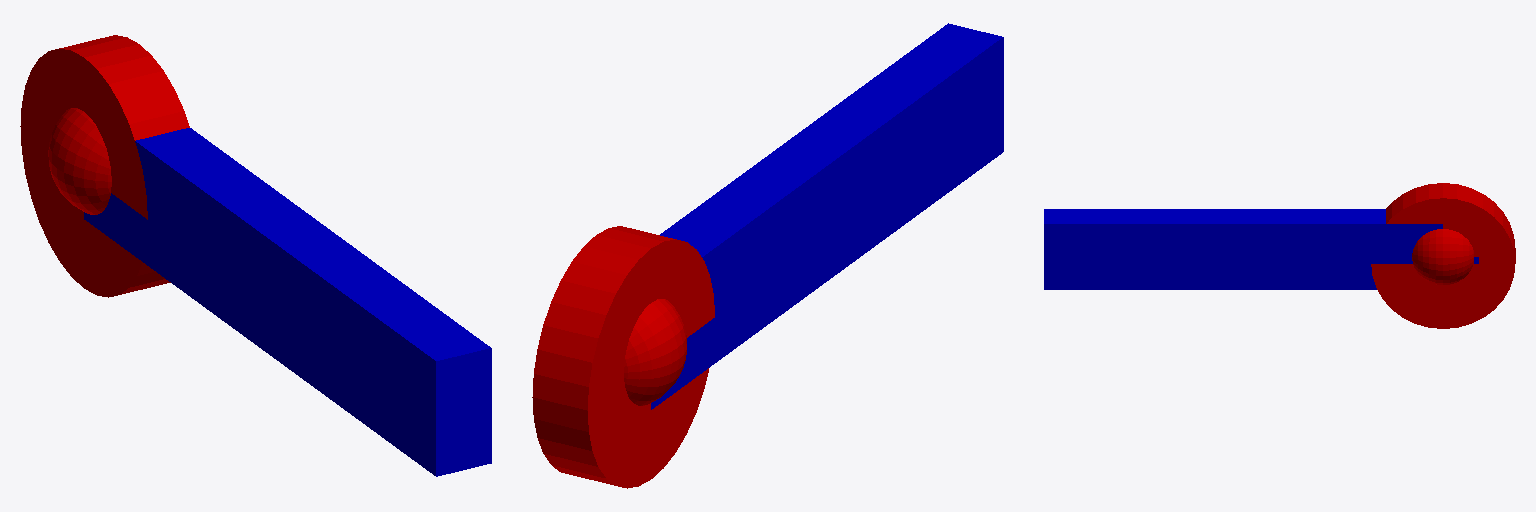
URDF robot description (TwoLinkStruct6145877157):
<?xml version="1.0"?>
<robot  name="TwoLinkStruct6145877157" >
 <material  name="blue" >
  <color  rgba="0 0 0.8 1.0" />
 </material>
 <material  name="red" >
  <color  rgba="0.8 0 0 1.0" />
 </material>
 <link  name="base_link" >
  <visual >
   <origin  rpy="0 1.5707 0"  xyz="0 0 0" />
   <material  name="red" />
   <geometry >
    <cylinder  length="0.05"  radius="0.1" />
   </geometry>
  </visual>
 </link>
 <joint  type="revolute"  name="joint1" >
  <parent  link="base_link" />
  <child  link="link1" />
  <origin  xyz="0 0 0"  rpy="0 0 0" />
  <axis  xyz="1 0 0" />
 </joint>
 <link  name="link1" >
  <inertial >
   <origin  rpy="0 0 0"  xyz="0 0 0.005" />
   <mass  value="0.047954764366149906" />
   <inertia  ixy="0.0"  iyy="1.998115181922913e-05"  izz="1.0390198945999146e-05"  ixz="0.0"  ixx="1.0390198945999146e-05"  iyz="0.0" />
  </inertial>
  <visual >
   <origin  rpy="0 0 0"  xyz="0 0 0.005" />
   <material  name="blue" />
   <geometry >
    <box  size="0.05 0.1 0.01" />
   </geometry>
  </visual>
 </link>
 <joint  type="fixed"  name="joint-joint-1" >
  <parent  link="link1" />
  <child  link="joint-link-1" />
  <origin  xyz="0 0 0.01"  rpy="1.5707 0 0" />
  <axis  xyz="1 0 0" />
 </joint>
 <link  name="joint-link-1" >
  <inertial >
   <origin  rpy="0 0 0"  xyz="0 0 0" />
   <mass  value="0.001" />
   <inertia  ixy="0"  iyy="0"  izz="0"  ixz="0"  ixx="0"  iyz="0" />
  </inertial>
  <visual >
   <origin  rpy="0 0 0"  xyz="0 0 0" />
   <material  name="red" />
   <geometry >
    <sphere  radius="0.05" />
   </geometry>
  </visual>
 </link>
 <joint  type="revolute"  name="joint2" >
  <parent  link="link1" />
  <child  link="link2" />
  <origin  xyz="0 0 0.01"  rpy="1.5707 0 0" />
  <axis  xyz="1 0 0" />
 </joint>
 <link  name="link2" >
  <inertial >
   <origin  rpy="0 0 0"  xyz="0 0 0.27617560296883104" />
   <mass  value="1.3812013157328311" />
   <inertia  ixy="0.0"  iyy="1.998115181922913e-05"  izz="0.0012292079094269484"  ixz="0.0"  ixx="0.0012292079094269484"  iyz="0.0" />
  </inertial>
  <visual >
   <origin  rpy="0 0 0"  xyz="0 0 0.27617560296883104" />
   <material  name="blue" />
   <geometry >
    <box  size="0.05 0.1 0.5523512059376621" />
   </geometry>
  </visual>
 </link>
 <joint  type="fixed"  name="eef_joint" >
  <parent  link="link2" />
  <child  link="eef" />
  <origin  xyz="0 0 0.5523512059376621"  rpy="0 0 0" />
 </joint>
 <link  name="eef" >
  <inertial >
   <origin  rpy="0 0 0"  xyz="0 0 0" />
   <mass  value="1" />
   <inertia  ixy="0"  iyy="0"  izz="0"  ixz="0"  ixx="0"  iyz="0" />
  </inertial>
 </link>
 <transmission  name="motor1" >
  <type  xmltext="SimpleTransmission" >
   SimpleTransmission
  </type>
  <actuator  name="motor1" >
   <mechanicalreduction  xmltext="1" >
    1
   </mechanicalreduction>
  </actuator>
  <joint  name="joint1" />
 </transmission>
 <transmission  name="motor2" >
  <type  xmltext="SimpleTransmission" >
   SimpleTransmission
  </type>
  <actuator  name="motor2" >
   <mechanicalreduction  xmltext="1" >
    1
   </mechanicalreduction>
  </actuator>
  <joint  name="joint2" />
 </transmission>
</robot>

<!-- {'carti': array([-0.1 ,  0.14,  0.85]), 'cartd': array([-0.1 ,  0.32,  1.29]), 'tau_mu': 0.25476814809473525, 'b0': 0.0, 'Km': 5.0, 'k_velocity': 75.71152845698238, 'tau_max_m': 5.0, 'omega_max_m': 3878.5555219283133, 'gear_ratio': 13.920374628450922, 'Kp': 98.81905963376897, 'Kd': 10.636671198922567, 'm_m': 0.001, 'l1': 0.01, 'l2': 0.5523512059376621, 'k1': 1000.0, 'k2': 282700017.23844695, 'k3': 266054514.37119868}-->

--- What the picture shows (computed from the rendered views, not written in the file) ---
3 views of the same robot in one strip: view 1: azimuth 30°, elevation 25°; view 2: azimuth 150°, elevation 25°; view 3: azimuth 270°, elevation 25° (orthographic).
Model TwoLinkStruct6145877157 with 5 links and 4 joints (2 revolute, 2 fixed), rooted at base_link, posed every joint at zero.
Links seen in each view (by area): view 1: link2, base_link, joint-link-1; view 2: link2, base_link, joint-link-1; view 3: link2, base_link, joint-link-1.
Link boxes in pixels (bbox=[...]): link2: bbox=[84, 128, 491, 476]; base_link: bbox=[20, 35, 189, 297]; joint-link-1: bbox=[48, 108, 111, 214]; link2: bbox=[651, 23, 1003, 409]; base_link: bbox=[532, 226, 714, 488]; joint-link-1: bbox=[624, 299, 686, 405]; link2: bbox=[1044, 209, 1442, 289]; base_link: bbox=[1371, 183, 1515, 328]; joint-link-1: bbox=[1412, 229, 1473, 284].
Bounding box of the posed robot: 0.1 × 0.6524 × 0.2 m (x, y, z).
Geometry: primitives only (box / cylinder / sphere), no mesh files.
